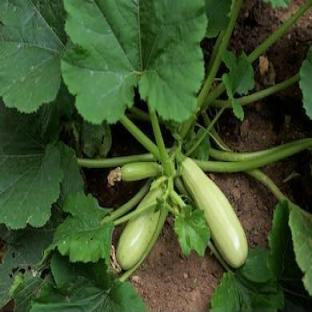Zucchini: (182, 159, 247, 267), (116, 210, 159, 269), (120, 162, 161, 182)
